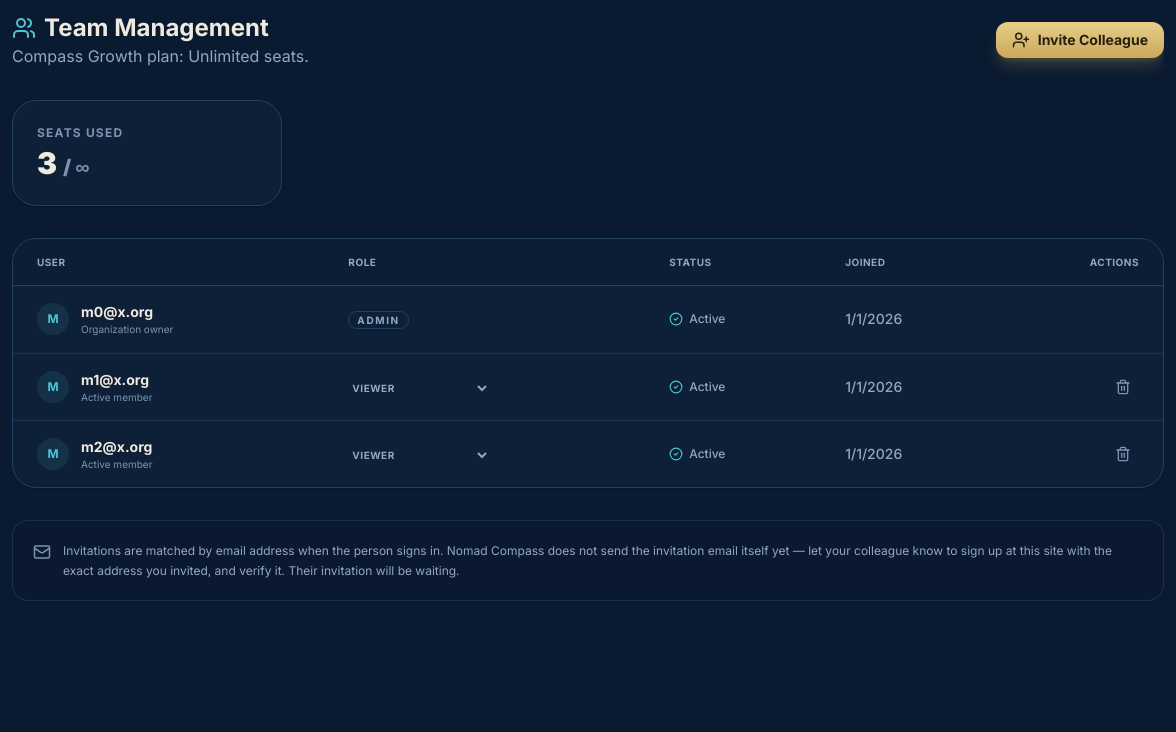
Test case: exact limits in the Team screen › shows the server's reason when removal is refused
Click the button titled "Remove member" in the row of "m1@x.org" at (1123, 387), box [1107,371,1139,403]
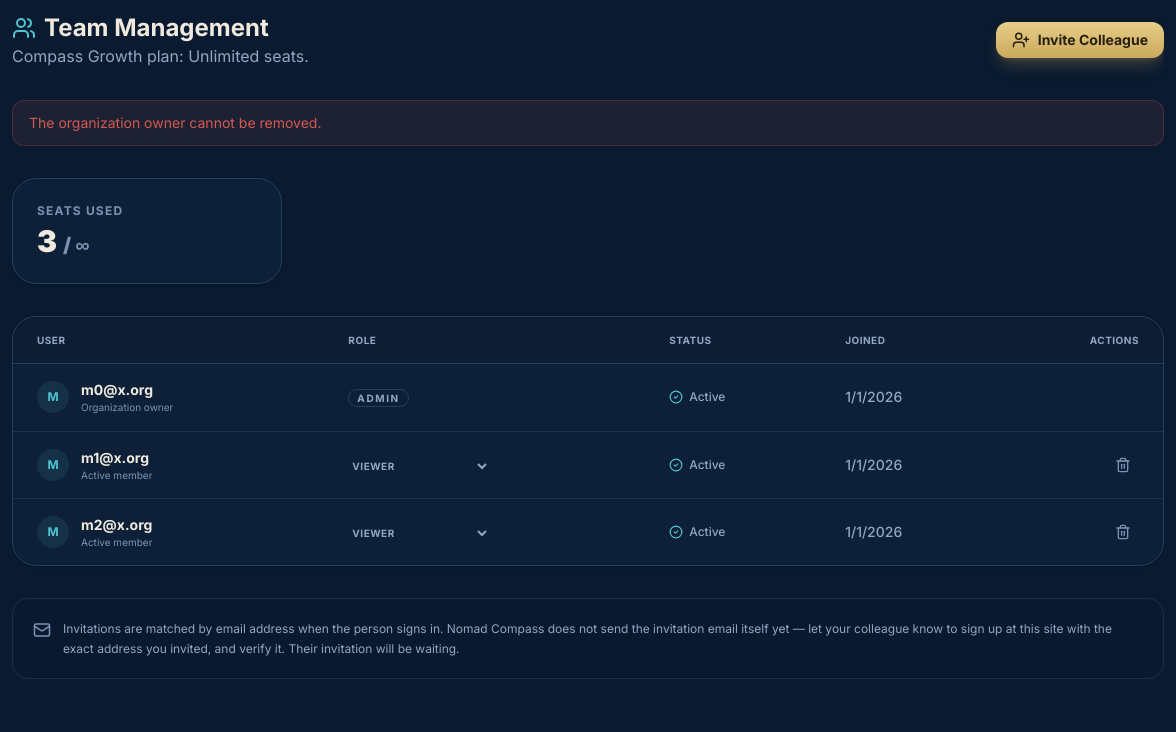
Check: the message shows "owner cannot be removed", box [29,114,321,131]
